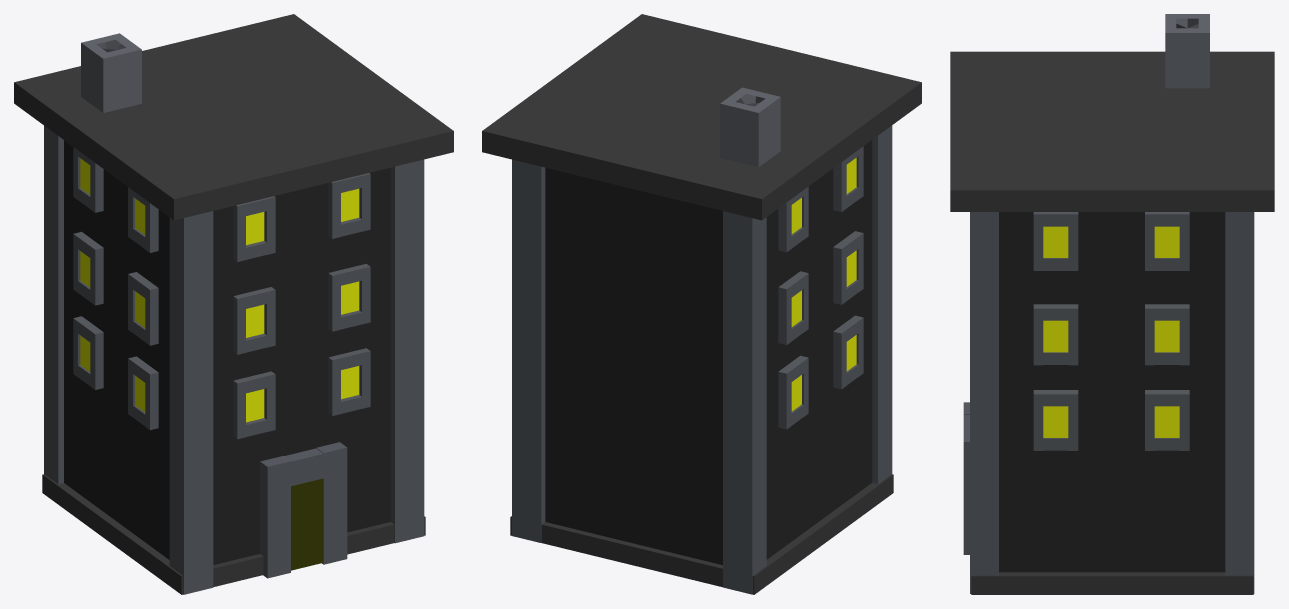
File: apartment1.fbx
The picture shows the model from 3 angles, left to right: view 1: azimuth 30°, elevation 25°; view 2: azimuth 150°, elevation 25°; view 3: azimuth 270°, elevation 25°; orthographic projection.
Parts seen in each view (by area): view 1: Cube, Cube.003, Cube.002, Cube.001, Cube.006, Cube.004, Cube.005, Cube.008, Cube.045; view 2: Cube, Cube.003, Cube.002, Cube.006, Cube.005, Cube.008; view 3: Cube, Cube.003, Cube.002, Cube.007, Cube.005, Cube.008, Cube.004, Cube.016, Cube.019, Cube.015, Cube.020, Cube.017 (+1 smaller).
Boxes of the visible parts, left/top/right/bottom form: Cube: left=64, top=140, right=390, bottom=564; Cube.003: left=14, top=14, right=453, bottom=220; Cube.002: left=44, top=125, right=424, bottom=594; Cube.001: left=233, top=173, right=370, bottom=439; Cube.006: left=73, top=147, right=158, bottom=430; Cube.004: left=260, top=442, right=347, bottom=578; Cube.005: left=42, top=474, right=425, bottom=594; Cube.008: left=81, top=33, right=141, bottom=112; Cube.045: left=291, top=478, right=323, bottom=570; Cube: left=545, top=140, right=872, bottom=565; Cube.003: left=482, top=14, right=921, bottom=220; Cube.002: left=512, top=125, right=892, bottom=594; Cube.006: left=778, top=146, right=863, bottom=429; Cube.005: left=510, top=474, right=893, bottom=594; Cube.008: left=720, top=87, right=780, bottom=167; Cube: left=999, top=212, right=1225, bottom=572; Cube.003: left=950, top=51, right=1274, bottom=211; Cube.002: left=970, top=212, right=1254, bottom=593; Cube.007: left=1033, top=212, right=1189, bottom=450; Cube.005: left=971, top=572, right=1253, bottom=594; Cube.008: left=1165, top=14, right=1209, bottom=88; Cube.004: left=963, top=402, right=969, bottom=554; Cube.016: left=1043, top=320, right=1068, bottom=352; Cube.019: left=1154, top=320, right=1179, bottom=352; Cube.015: left=1043, top=406, right=1068, bottom=437; Cube.020: left=1154, top=406, right=1179, bottom=437; Cube.017: left=1043, top=226, right=1068, bottom=257.
Size of the model in its own units: 376 by 594 by 372.
